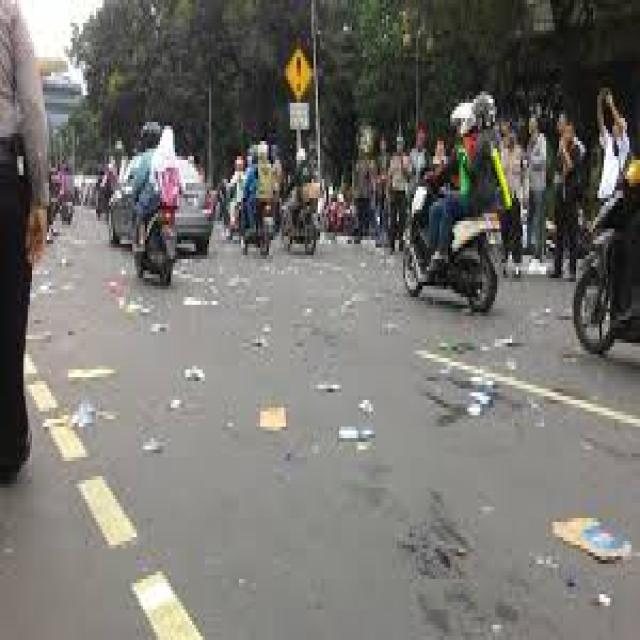trash: (260, 389, 313, 462), (458, 371, 509, 427), (72, 396, 113, 436)
